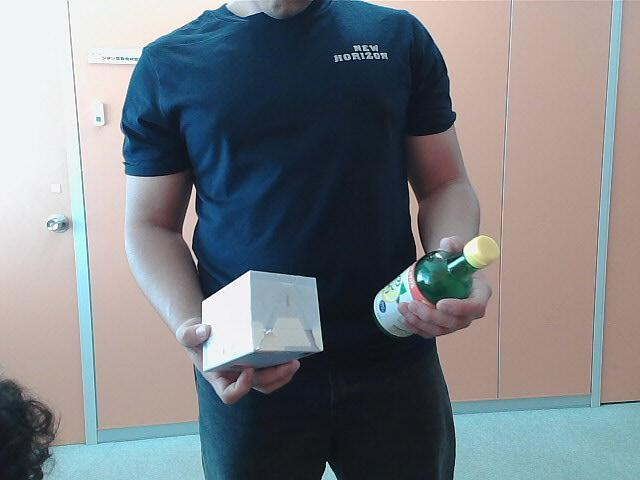Blind_box: (196, 268, 328, 376)
Lemon_sapporo: (372, 228, 501, 350)
